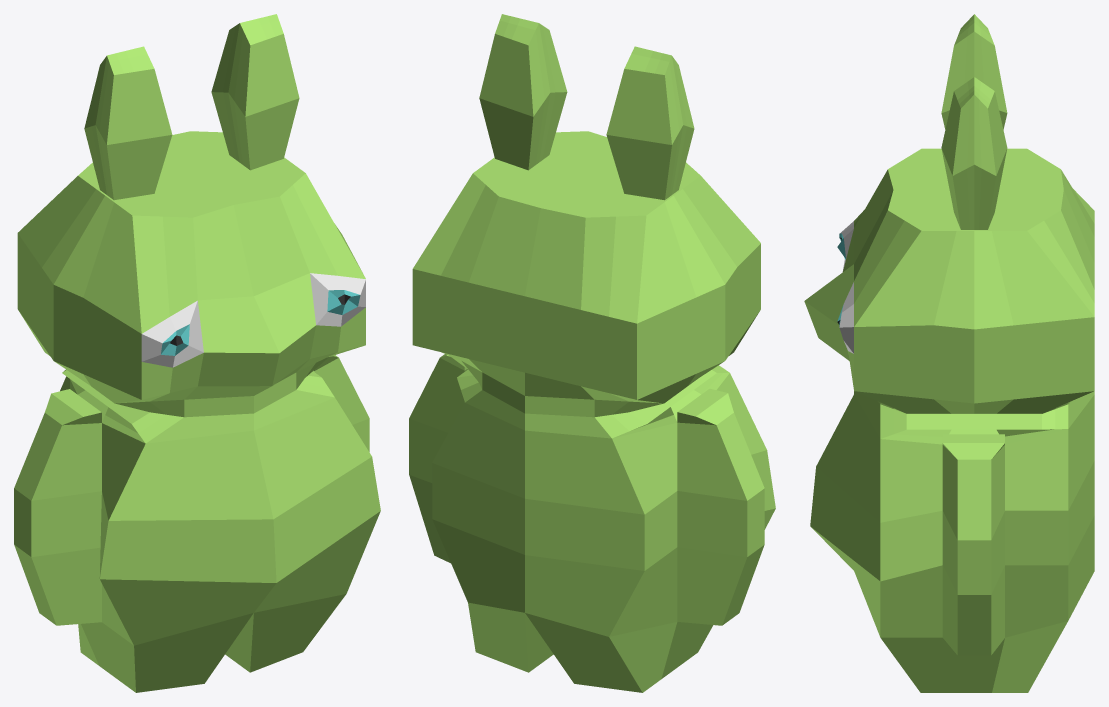
The model's file is perso2.fbx.
3 renders of one model, left to right at view 1: azimuth 30°, elevation 25°; view 2: azimuth 150°, elevation 25°; view 3: azimuth 270°, elevation 25°, orthographic. The views are drawn at different scales.
Parts seen in each view (by area): view 1: Cube; view 2: Cube; view 3: Cube.
Part boxes in pixels (x1=…): Cube: x1=14, y1=14, x2=380, y2=692; Cube: x1=409, y1=14, x2=775, y2=692; Cube: x1=804, y1=14, x2=1094, y2=692.
Bounding box in the file's own units: 199 × 346 × 152.
